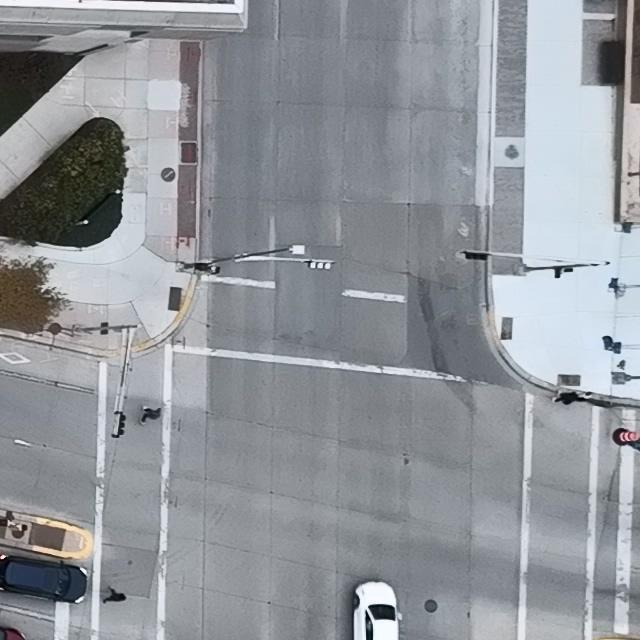car: (0, 554, 89, 604), (352, 582, 402, 640)
